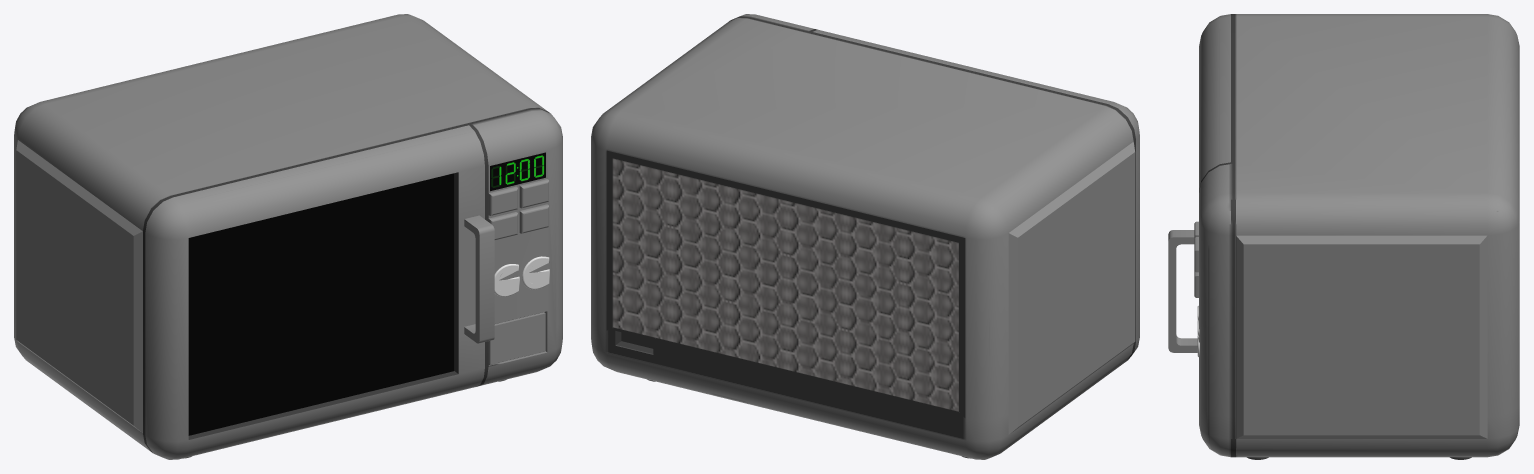
File: microwave with txt.fbx
3 views of the same model, side by side, from view 1: azimuth 30°, elevation 25°; view 2: azimuth 150°, elevation 25°; view 3: azimuth 270°, elevation 25° (orthographic).
Parts seen in each view (by area): view 1: MAIN, DOOR, SCREEN, Text; view 2: MAIN, DOOR; view 3: MAIN, DOOR.
Part boxes in pixels (<box>): MAIN: <box>14,14,562,452</box>; DOOR: <box>145,125,494,459</box>; SCREEN: <box>490,152,545,191</box>; Text: <box>494,256,549,296</box>; MAIN: <box>591,14,1135,459</box>; DOOR: <box>813,29,1139,358</box>; MAIN: <box>1194,14,1519,457</box>; DOOR: <box>1168,14,1230,352</box>.
Bounding box in the file's own units: 308 × 187 × 219.
